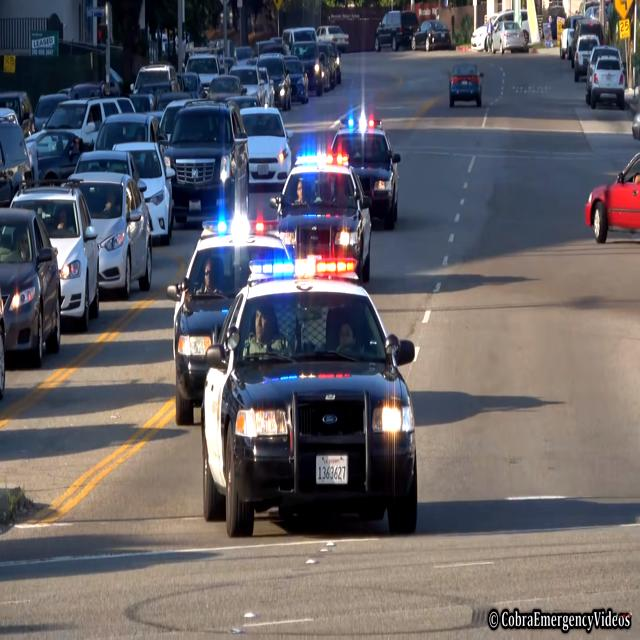emergency-vehicles: (198, 254, 446, 572), (146, 211, 318, 423), (280, 146, 374, 276), (306, 111, 414, 222)
